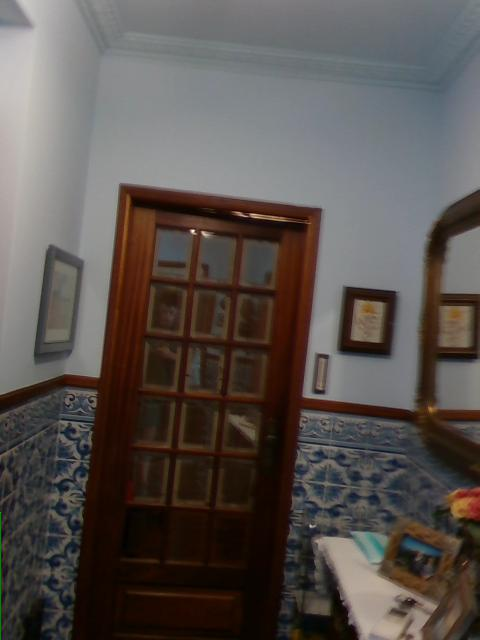door: (70, 182, 322, 637)
